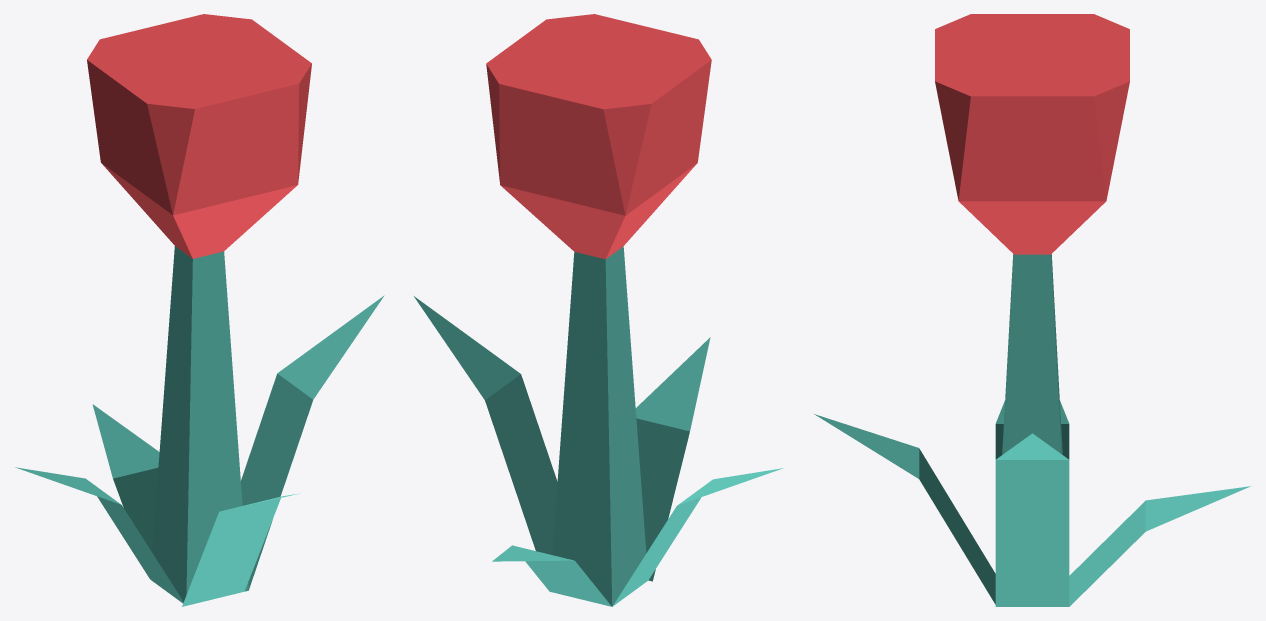
The model's file is flower_red1.obj.
3 renders of one model, left to right at view 1: azimuth 30°, elevation 25°; view 2: azimuth 150°, elevation 25°; view 3: azimuth 270°, elevation 25°, orthographic. The views are drawn at different scales.
Visible parts, largest first — view 1: flower_red1; view 2: flower_red1; view 3: flower_red1.
Part boxes in pixels (bbox=[...]): flower_red1: bbox=[15, 14, 384, 606]; flower_red1: bbox=[414, 14, 783, 606]; flower_red1: bbox=[814, 14, 1251, 606].
Size of the model in its own units: 2.08 by 2.8 by 2.08.
